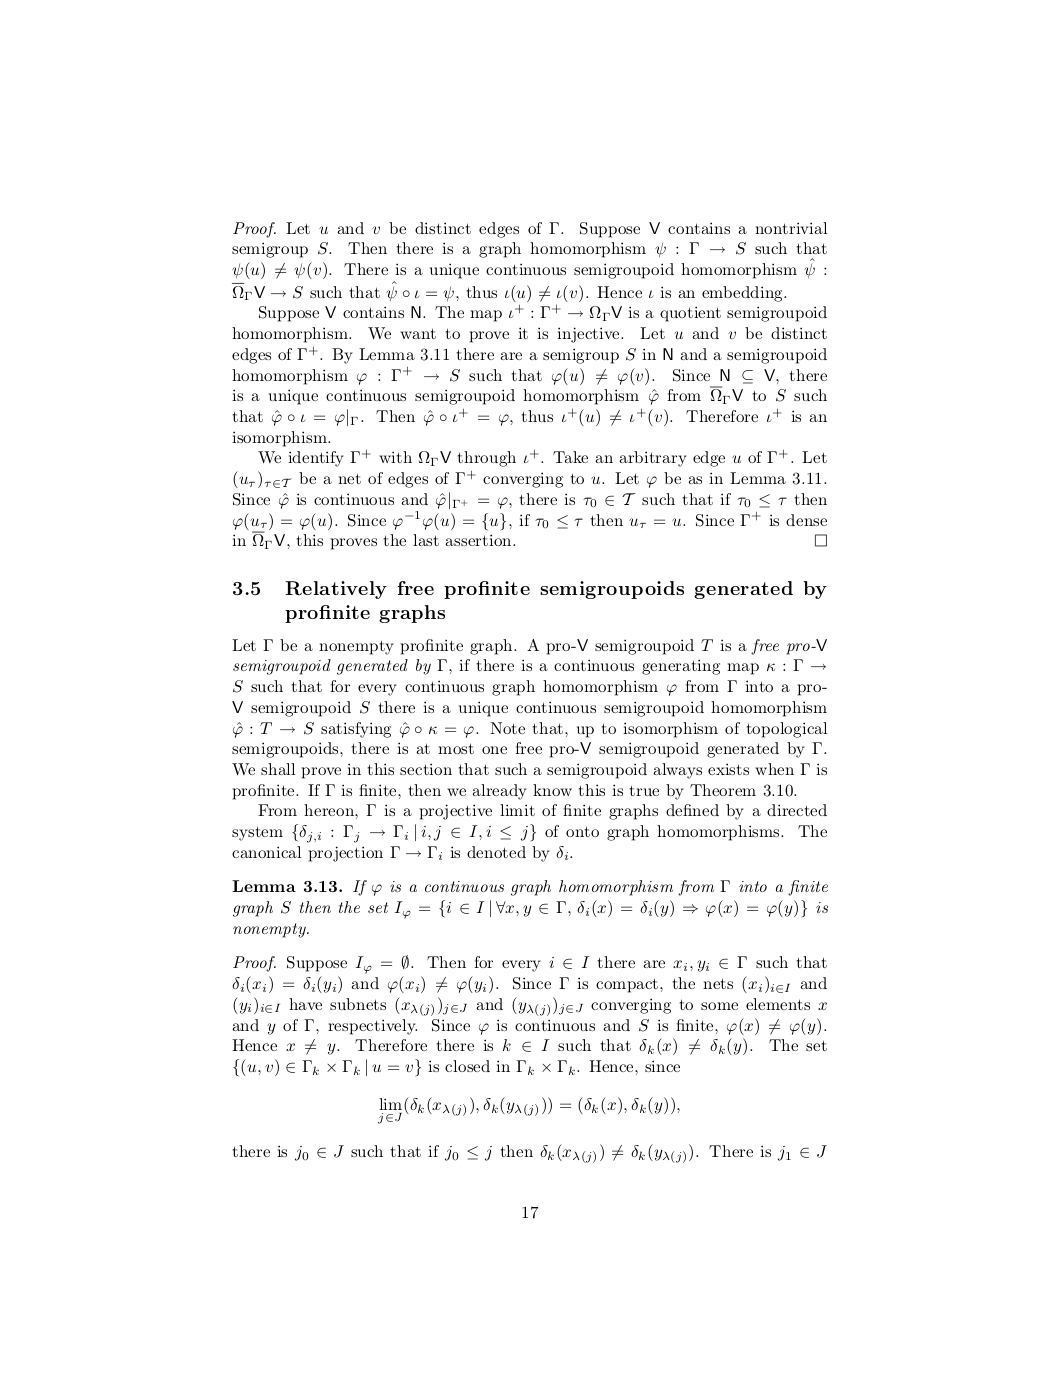formula: (378, 1096, 679, 1124)
